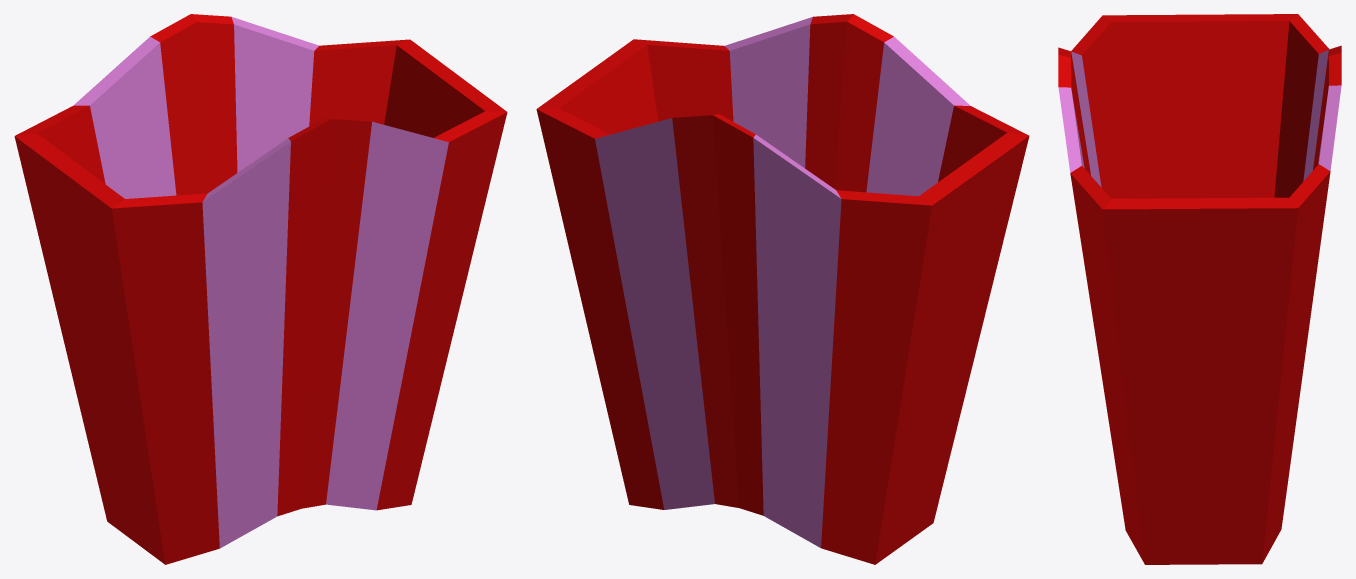
The model's file is FriesPackage.fbx.
3 renders of one model, left to right at view 1: azimuth 30°, elevation 25°; view 2: azimuth 150°, elevation 25°; view 3: azimuth 270°, elevation 25°, orthographic.
Parts seen in each view (by area): view 1: Fries; view 2: Fries; view 3: Fries.
Part boxes in pixels (left/top/right/bottom): Fries: left=14, top=14, right=507, bottom=564; Fries: left=536, top=14, right=1029, bottom=564; Fries: left=1058, top=14, right=1341, bottom=564.
Size of the model in its own units: 42.22 by 45.82 by 26.03.
